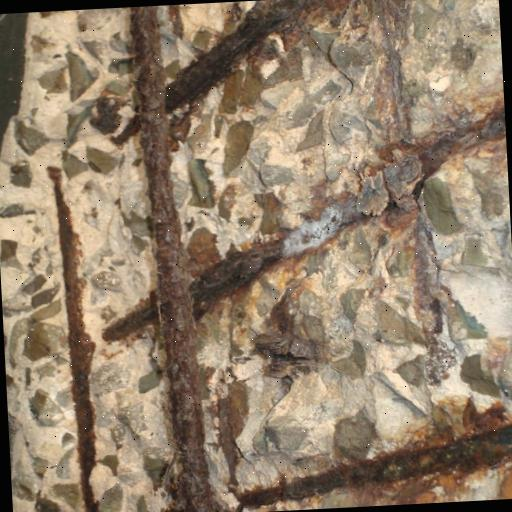spalling: (41, 0, 512, 512)
